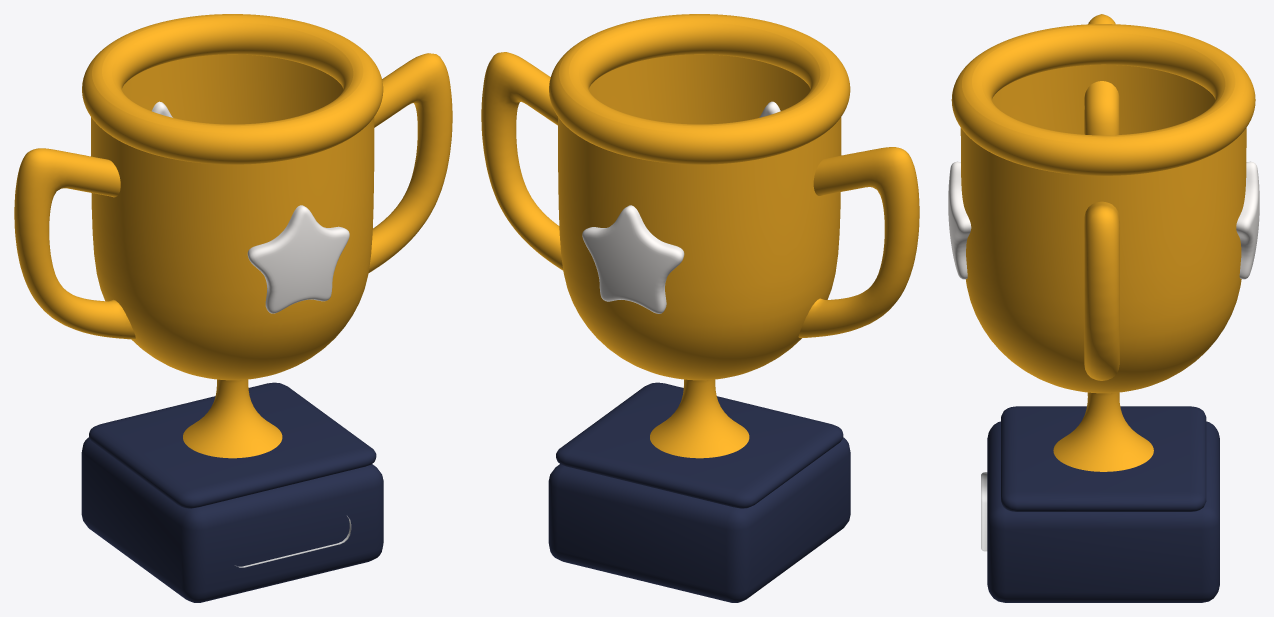
File: trophy-animated-3d-icon-634218425203.glb
The picture shows the model from 3 angles, left to right: view 1: azimuth 30°, elevation 25°; view 2: azimuth 150°, elevation 25°; view 3: azimuth 270°, elevation 25°; orthographic projection.
Parts seen in each view (by area): view 1: Cylinder.006, Cube.005, Cylinder.007, Retopo_Plane.007, Cube.006, Star.002; view 2: Cylinder.006, Cube.005, Cylinder.007, Retopo_Plane.007, Cube.006, Star.003; view 3: Cylinder.006, Cylinder.007, Cube.005, Cube.006, Retopo_Plane.007, Star.003, Star.002, Cube.007.
Boxes of the visible parts, <box> form: Cylinder.006: <box>91,54,374,458</box>; Cube.005: <box>81,437,383,602</box>; Cylinder.007: <box>82,14,383,164</box>; Retopo_Plane.007: <box>14,53,452,339</box>; Cube.006: <box>89,382,376,508</box>; Star.002: <box>247,205,349,313</box>; Cylinder.006: <box>558,54,841,458</box>; Cube.005: <box>548,437,850,602</box>; Cylinder.007: <box>549,14,850,164</box>; Retopo_Plane.007: <box>481,52,919,337</box>; Cube.006: <box>556,382,843,508</box>; Star.003: <box>582,205,684,313</box>; Cylinder.006: <box>960,65,1246,471</box>; Cylinder.007: <box>951,24,1255,175</box>; Cube.005: <box>987,421,1219,602</box>; Cube.006: <box>1001,406,1206,511</box>; Retopo_Plane.007: <box>1084,14,1119,380</box>; Star.003: <box>1236,161,1259,279</box>; Star.002: <box>948,161,971,279</box>; Cube.007: <box>981,472,987,551</box>.
Bounding box in the file's own units: 2.09 × 2.19 × 1.29.
